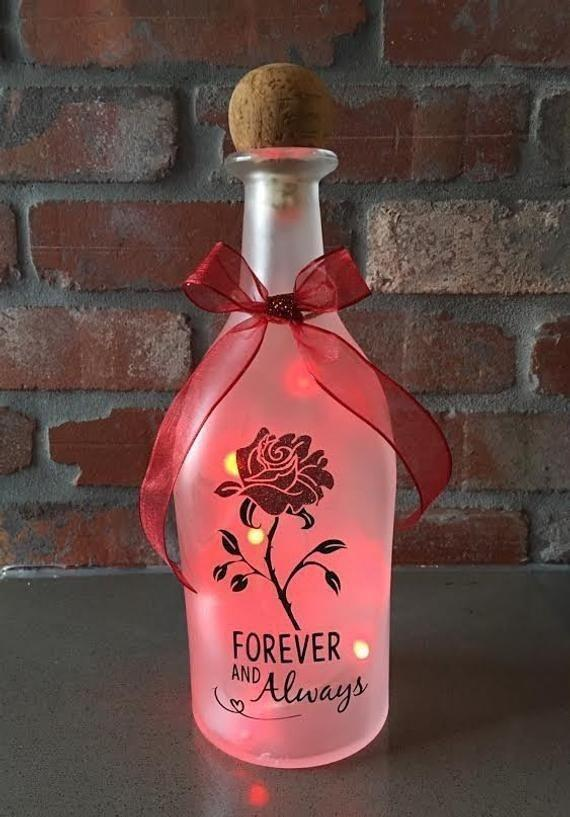bottle-glass: (162, 142, 406, 775)
